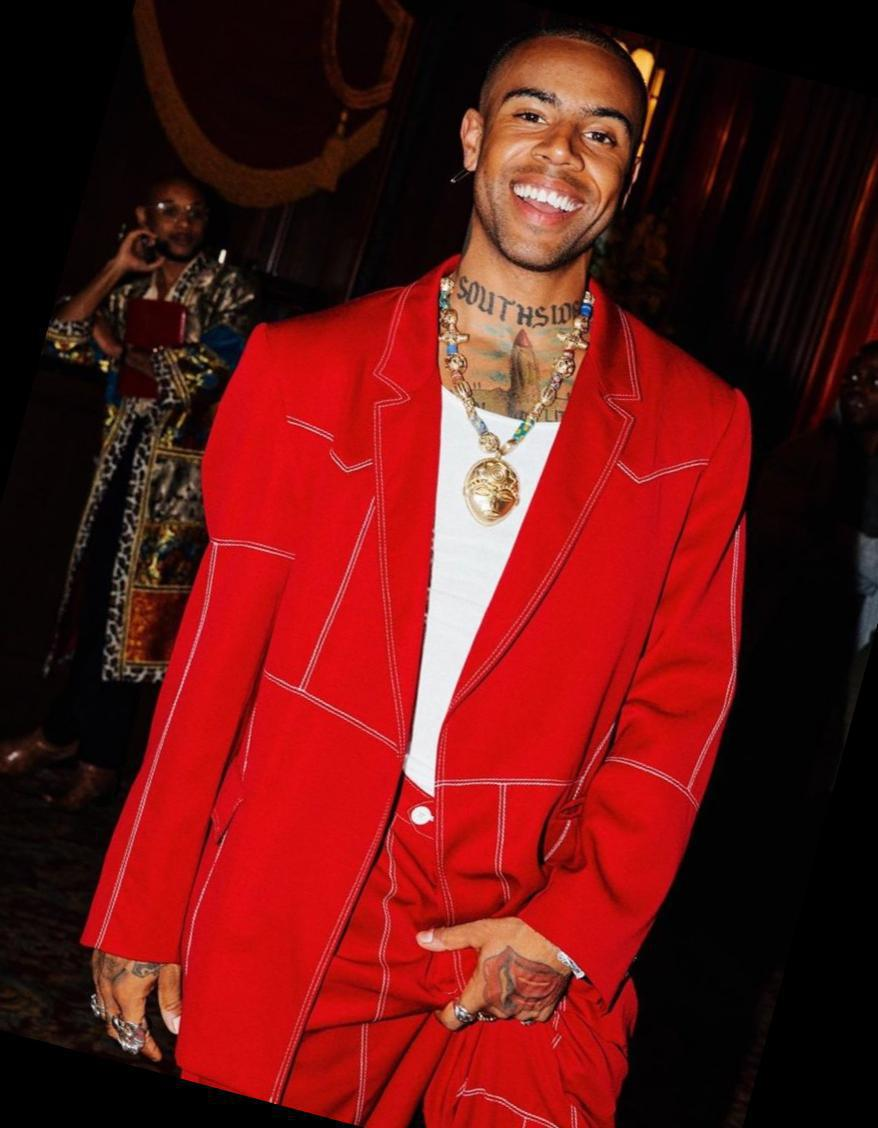Sober: (506, 53, 629, 253)
